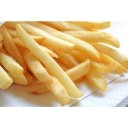frenchfries: (1, 21, 128, 99)
